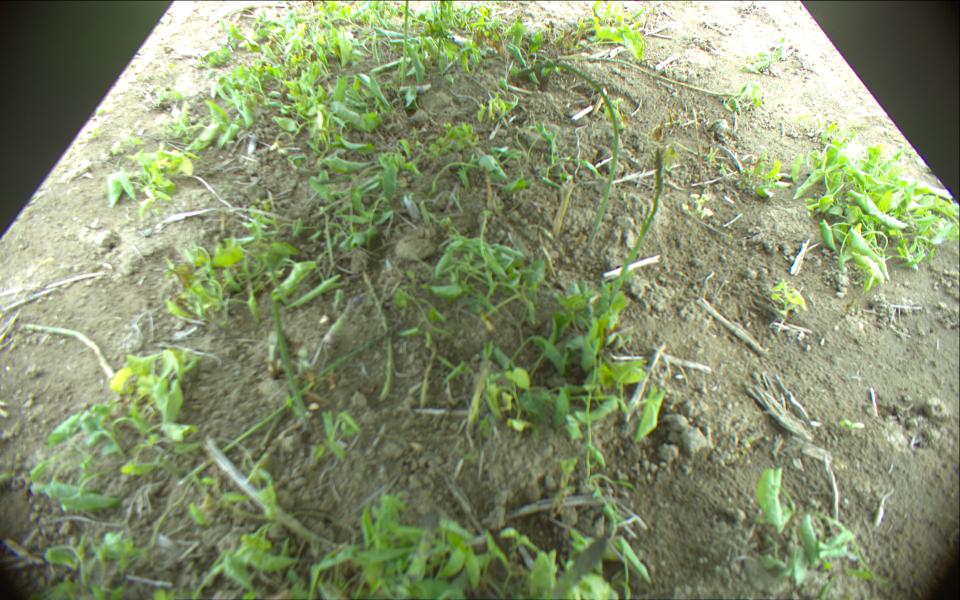aspa: (178, 312, 408, 489), (512, 63, 618, 251), (602, 148, 665, 314), (557, 50, 743, 99), (267, 285, 311, 429), (23, 323, 118, 379), (361, 271, 394, 401), (399, 1, 411, 90)
